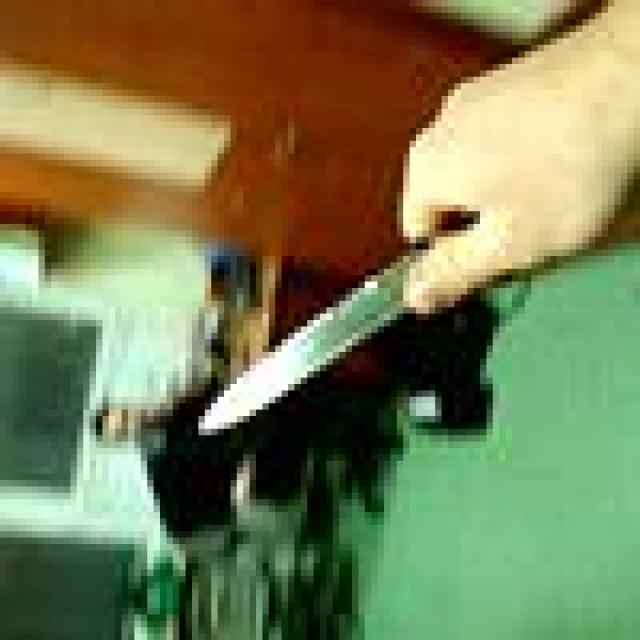knife: (186, 244, 430, 434)
